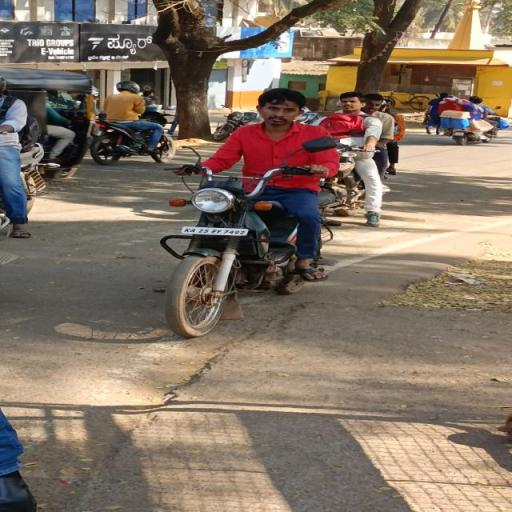bike: (149, 85, 338, 340)
numberplate: (182, 224, 254, 238)
withouthelmet: (258, 88, 302, 124)
